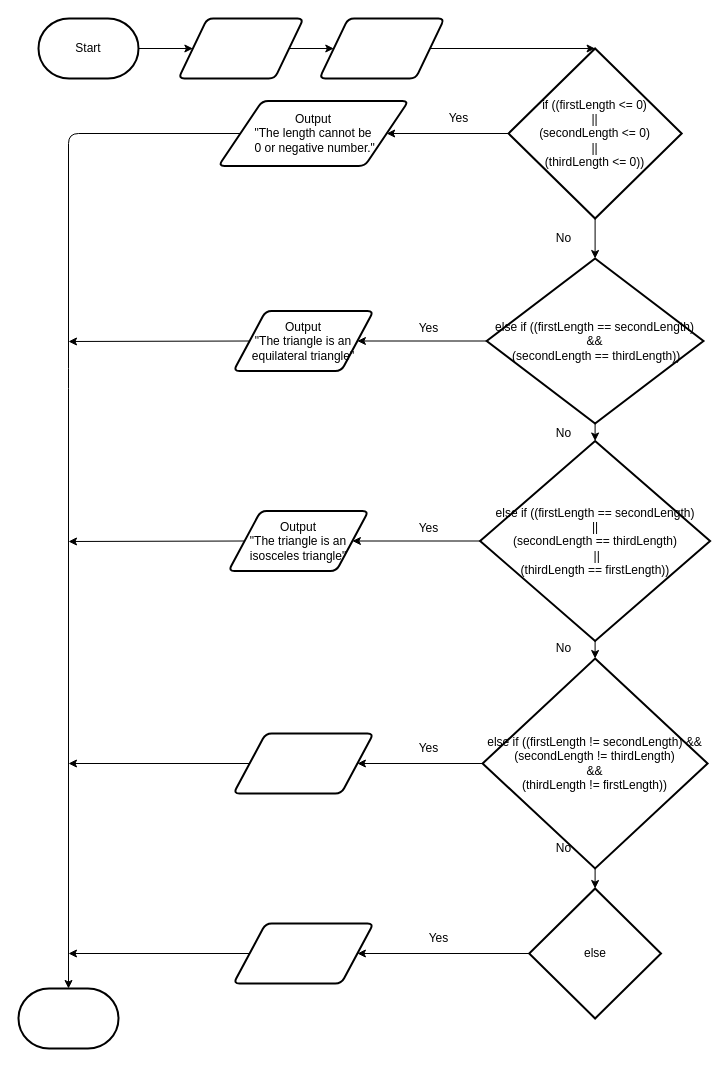
Image size: 728x1066. Some labels were removed from this diagram. Each missing label, with the centre of its shape:
Enter age: (x=381, y=48)
Enter day: (x=240, y=48)
Output "Something went wrong.": (x=303, y=953)
Output "The triangle is a scalene triangle": (x=303, y=763)
Stop: (x=68, y=1018)
